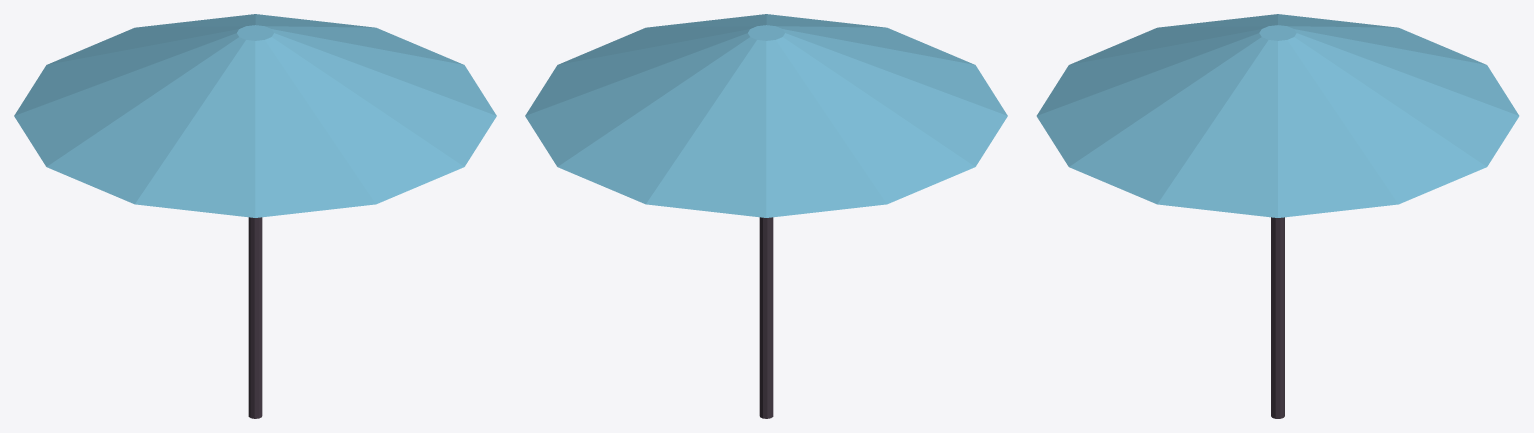
File: prop_payung.fbx
3 renders of one model, left to right at view 1: azimuth 30°, elevation 25°; view 2: azimuth 150°, elevation 25°; view 3: azimuth 270°, elevation 25°, orthographic.
Parts seen in each view (by area): view 1: prop_payung; view 2: prop_payung; view 3: prop_payung.
Part boxes in pixels (x1=…): prop_payung: x1=14, y1=14, x2=496, y2=418; prop_payung: x1=525, y1=14, x2=1007, y2=418; prop_payung: x1=1036, y1=14, x2=1519, y2=418.
Bounding box in the file's own units: 116 × 102 × 116.
1 material, 1 textured.
